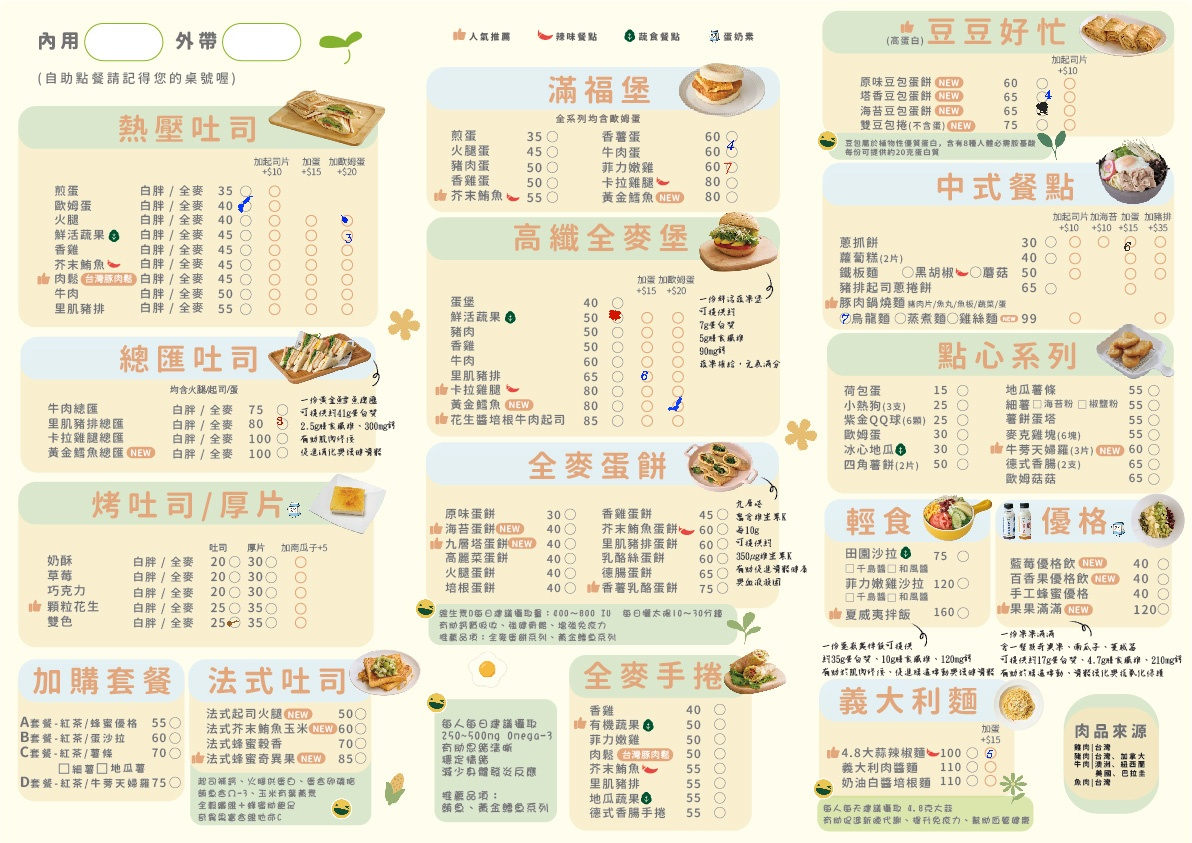marked_circle: (611, 312, 621, 323)
marked_number_3: (341, 229, 351, 240), (276, 417, 286, 428)
marked_number_4: (726, 132, 736, 143), (1036, 91, 1046, 102)
marked_number_5: (985, 748, 995, 759)
marked_number_6: (641, 370, 651, 381), (1124, 236, 1134, 247)
marked_number_7: (839, 311, 849, 322), (726, 161, 736, 172)
marked_tick: (239, 199, 249, 210), (228, 617, 238, 628), (672, 400, 682, 411), (340, 215, 350, 226)
marked_x: (1037, 104, 1047, 115)
